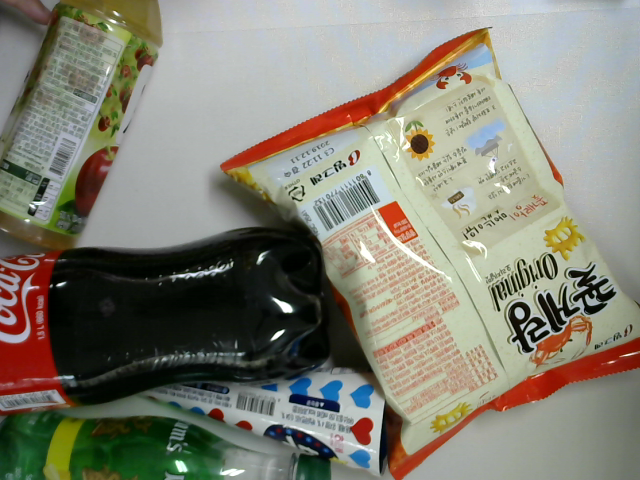Bravo_Cone_(Banila)_CVS: (105, 353, 400, 478)
Coca_Cola_1.5L: (1, 220, 335, 420)
Crabrang: (214, 20, 640, 477)
Morning_Apple_500ml: (1, 2, 173, 259)
Seagram_Lemon_Carbonated_Water: (1, 410, 340, 479)
